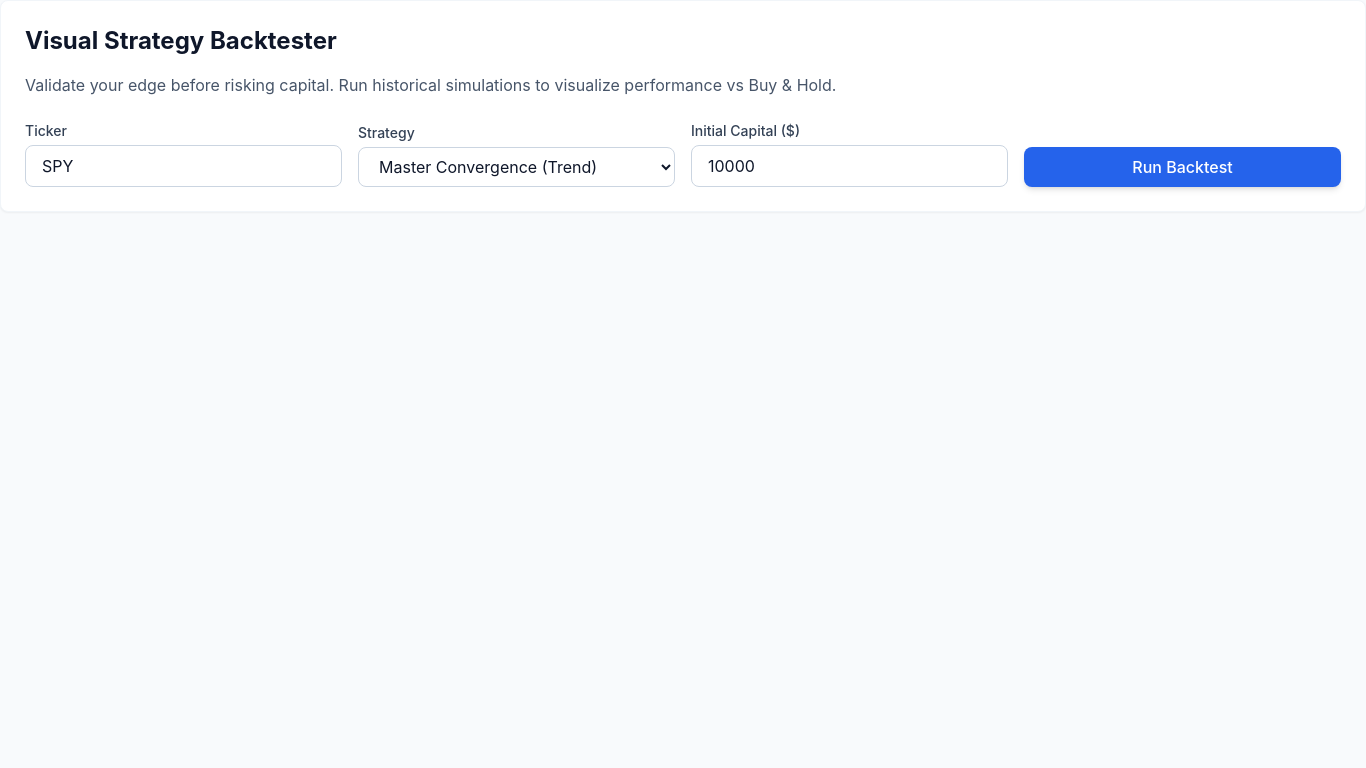
Test: Backtester Component › opens mindset checklist when running backtest
The image size is (1366, 768).
Click the button "Run Backtest".
click(1182, 167)  # box [1024,147,1341,187]
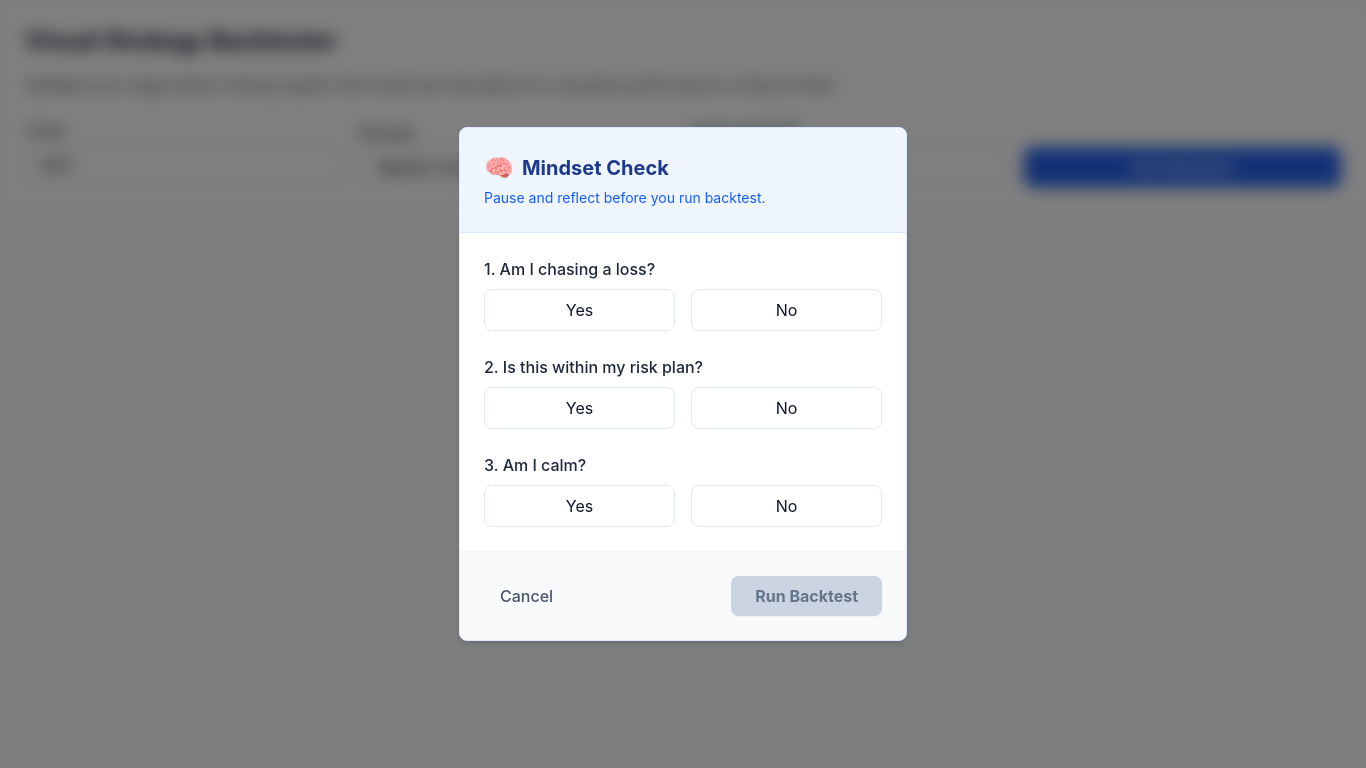
Expected: the heading "🧠 Mindset Check" is shown, [484,153,669,182]
